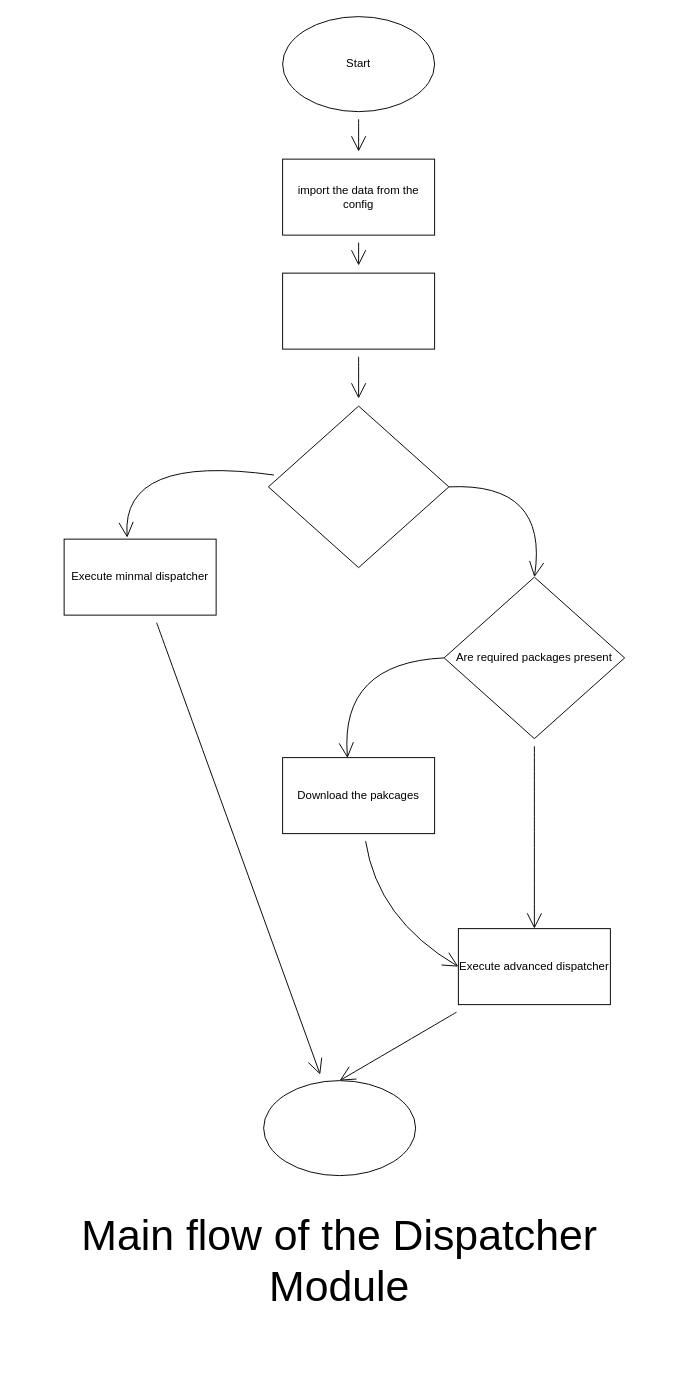
Some shapes in this 678 by 1373 pixel diagram are drawn without their labels. The centre of each missing label's shape, as x and y in pixels:
case switch runmode: (x=358, y=486)
End: (x=339, y=1128)
unpack the data: (x=358, y=310)
